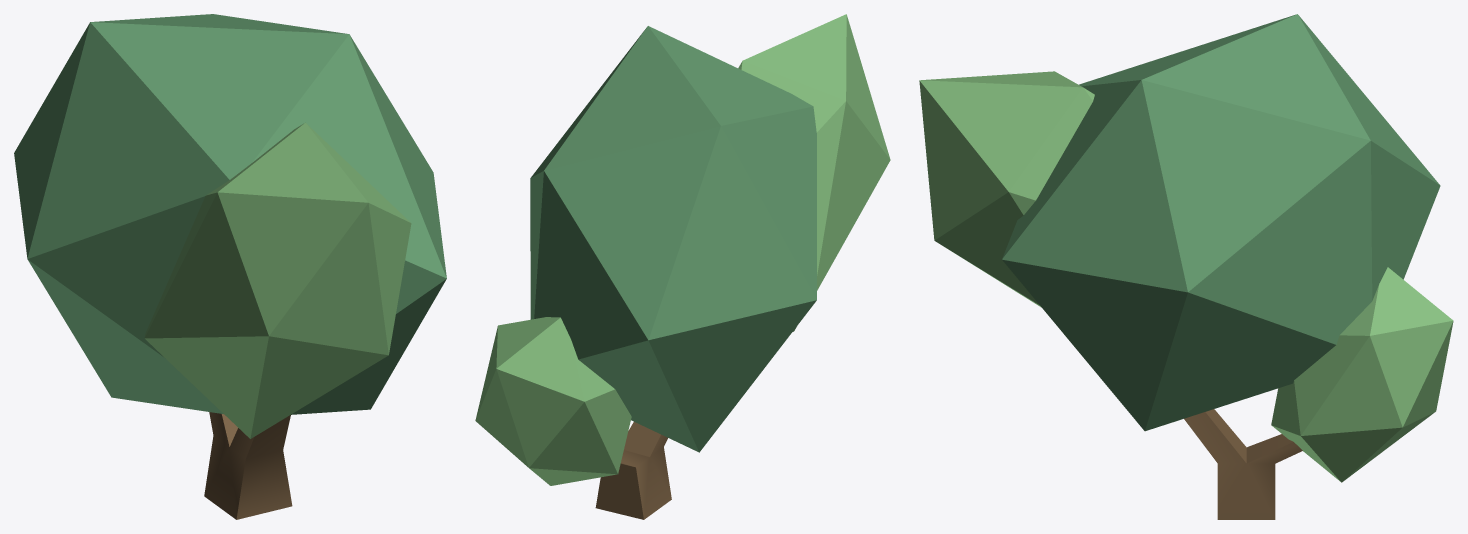
Rendered from bush_3.fbx.
The picture shows the model from 3 angles, left to right: view 1: azimuth 30°, elevation 25°; view 2: azimuth 150°, elevation 25°; view 3: azimuth 270°, elevation 25°; orthographic projection. The views are drawn at different scales.
Parts seen in each view (by area): view 1: shrub5, shrub, bush_trunk; view 2: shrub5, shrub6, shrub, bush_trunk; view 3: shrub5, shrub, shrub6, bush_trunk.
Boxes of the visible parts, bbox=[...] form: shrub5: bbox=[14, 14, 446, 414]; shrub: bbox=[144, 122, 411, 438]; bush_trunk: bbox=[204, 412, 292, 519]; shrub5: bbox=[530, 26, 816, 452]; shrub6: bbox=[475, 317, 631, 485]; shrub: bbox=[738, 14, 890, 331]; bush_trunk: bbox=[595, 422, 671, 519]; shrub5: bbox=[1002, 14, 1440, 431]; shrub: bbox=[919, 71, 1094, 307]; shrub6: bbox=[1271, 267, 1453, 482]; bush_trunk: bbox=[1184, 409, 1302, 519].
Bounding box in the file's own units: 56.4 × 73.02 × 79.21.
